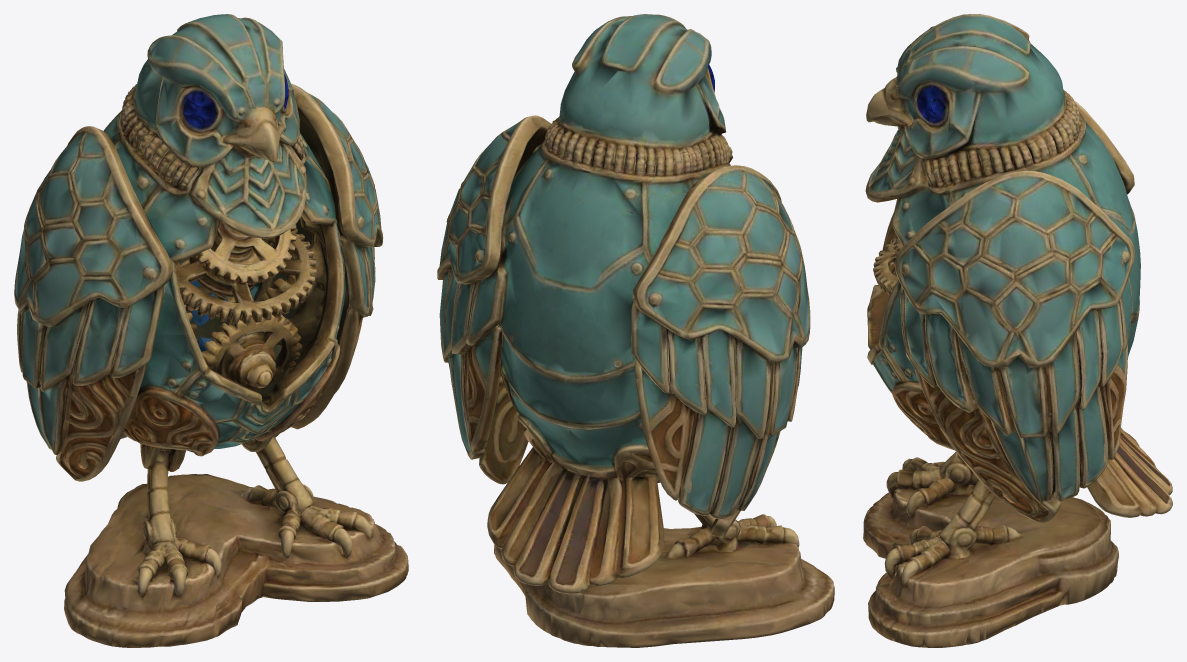
Rendered from owl.glb.
The picture shows the model from 3 angles, left to right: view 1: azimuth 30°, elevation 25°; view 2: azimuth 150°, elevation 25°; view 3: azimuth 270°, elevation 25°; orthographic projection. The views are drawn at different scales.
Bounding box in the file's own units: 1.21 × 1.9 × 0.9699.
1 material, 1 textured.
